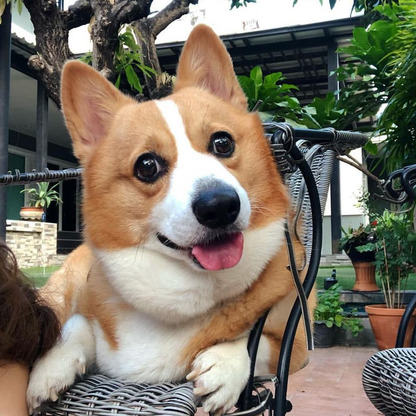Corgi: (46, 35, 314, 397)
